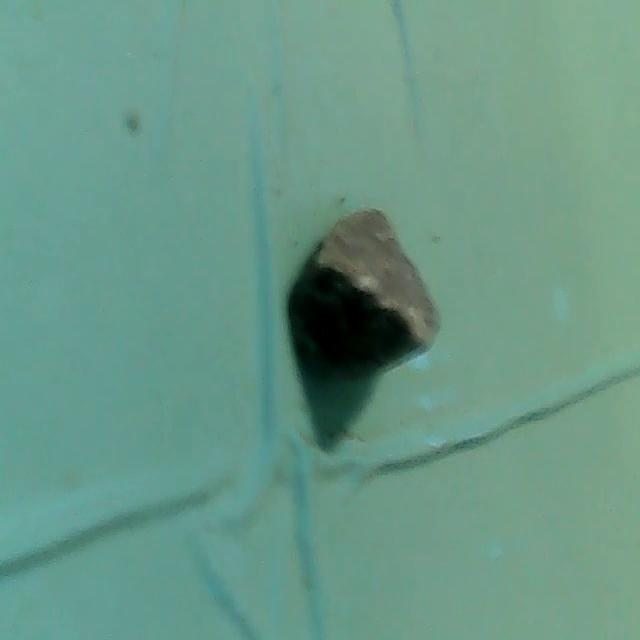rock: (287, 194, 450, 392)
